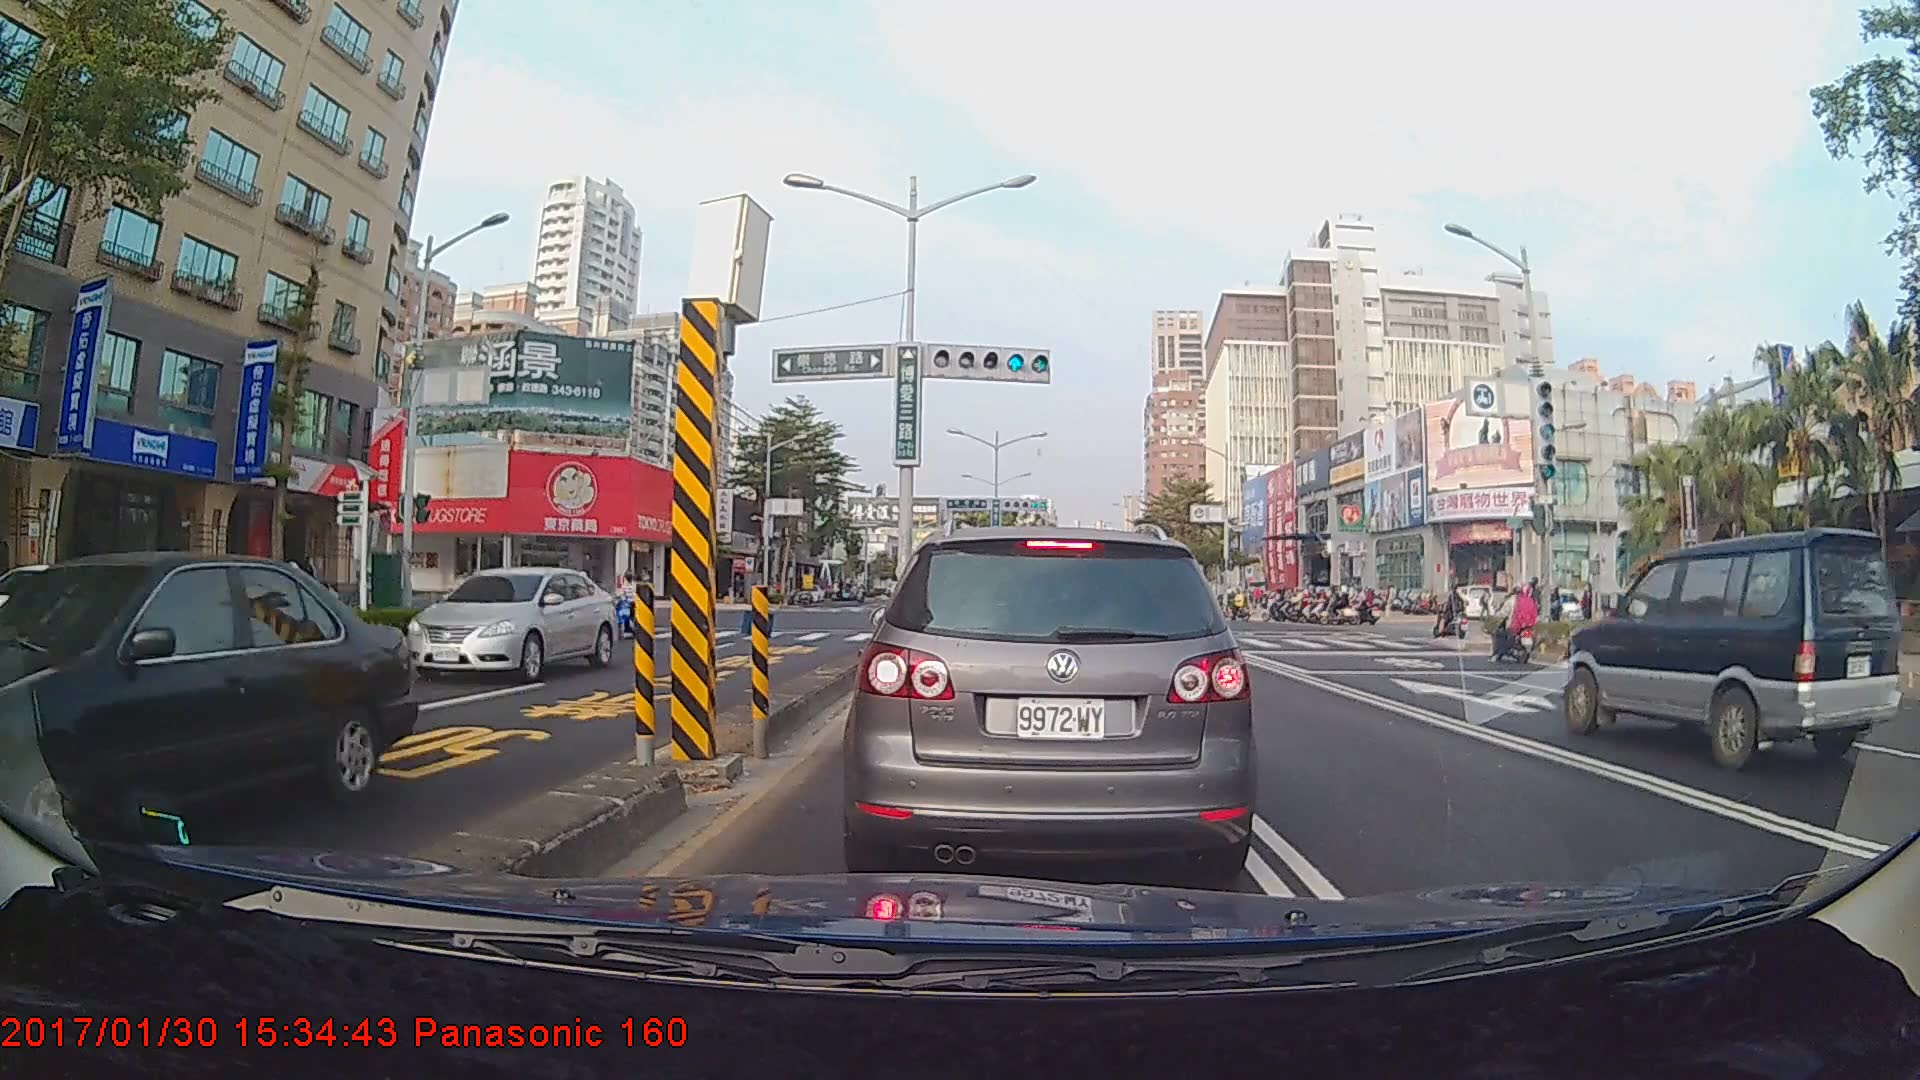rider: (1485, 582, 1548, 668), (1436, 582, 1473, 646)
vehicle: (0, 547, 419, 888), (856, 522, 1245, 876), (1563, 527, 1904, 771), (405, 566, 619, 684)
